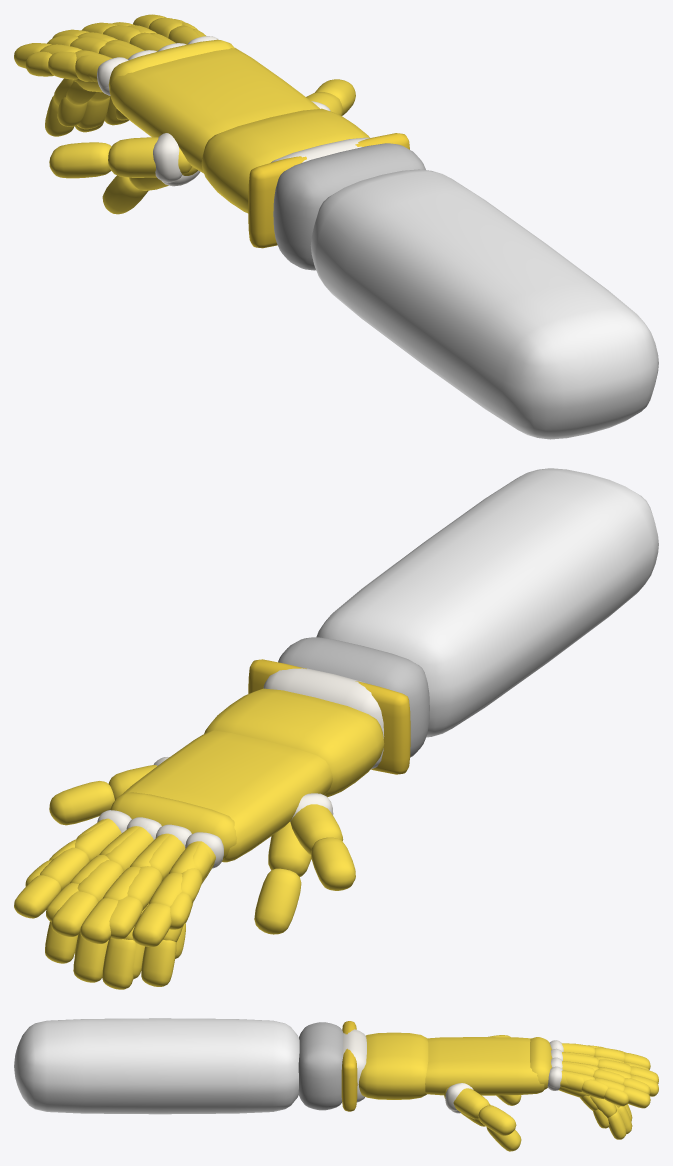
File: hands.glb
3 renders of one model, top to bottom at view 1: azimuth 30°, elevation 25°; view 2: azimuth 150°, elevation 25°; view 3: azimuth 270°, elevation 25°, orthographic. The views are drawn at different scales.
Parts seen in each view (by area): view 1: Hand_L, Hand_L_Glove, HandFlat_R_Thumb, HandFlat_L_Pinky, Hand_R_Thumb, HandFlat_L_Thumb, HandFlat_L_Middle, HandFlat_R_StumpThumb, HandFlat_L_Ring, Hand_R_Index, HandFlat_L_Index, Hand_L_Pinky (+3 smaller); view 2: Hand_L, Hand_L_Glove, Hand_R_Thumb, HandFlat_R_Thumb, HandFlat_L_Index, HandFlat_L_Middle, Hand_L_StumpWrist, HandFlat_L_Thumb, HandFlat_L_Ring, HandFlat_R_Index, HandFlat_R_Middle, HandFlat_L_Pinky (+5 smaller); view 3: Hand_L, Hand_L_Glove, HandFlat_L_Thumb, HandFlat_R_Pinky, HandFlat_R_Middle, HandFlat_R_Index, Hand_L_Index, HandFlat_L_Index, HandFlat_R_Ring, Hand_L_StumpWrist, Hand_L_Thumb, HandFlat_L_Middle (+5 smaller).
Part boxes in pixels (x1=…): Hand_L: x1=273, y1=143, x2=658, y2=439; Hand_L_Glove: x1=108, y1=39, x2=409, y2=248; HandFlat_R_Thumb: x1=49, y1=137, x2=192, y2=178; HandFlat_L_Pinky: x1=25, y1=51, x2=108, y2=81; Hand_R_Thumb: x1=102, y1=167, x2=197, y2=214; HandFlat_L_Thumb: x1=306, y1=79, x2=355, y2=115; HandFlat_L_Middle: x1=82, y1=22, x2=168, y2=51; HandFlat_R_StumpThumb: x1=153, y1=133, x2=182, y2=182; HandFlat_L_Ring: x1=47, y1=35, x2=138, y2=59; Hand_R_Index: x1=45, y1=78, x2=102, y2=136; HandFlat_L_Index: x1=133, y1=14, x2=199, y2=44; Hand_L_Pinky: x1=57, y1=80, x2=96, y2=126; Hand_L: x1=278, y1=468, x2=658, y2=757; Hand_L_Glove: x1=110, y1=659, x2=410, y2=862; Hand_R_Thumb: x1=254, y1=822, x2=311, y2=934; HandFlat_R_Thumb: x1=290, y1=804, x2=355, y2=890; HandFlat_L_Index: x1=14, y1=819, x2=121, y2=918; HandFlat_L_Middle: x1=51, y1=826, x2=153, y2=936; Hand_L_StumpWrist: x1=263, y1=668, x2=384, y2=769; HandFlat_L_Thumb: x1=49, y1=765, x2=156, y2=825; HandFlat_L_Ring: x1=109, y1=834, x2=185, y2=939; HandFlat_R_Index: x1=132, y1=841, x2=215, y2=946; HandFlat_R_Middle: x1=80, y1=833, x2=169, y2=943; HandFlat_L_Pinky: x1=169, y1=841, x2=211, y2=929; Hand_L: x1=14, y1=1018, x2=342, y2=1114; Hand_L_Glove: x1=341, y1=1021, x2=552, y2=1111; HandFlat_L_Thumb: x1=444, y1=1087, x2=516, y2=1135; HandFlat_R_Pinky: x1=561, y1=1071, x2=628, y2=1106; HandFlat_R_Middle: x1=562, y1=1053, x2=658, y2=1083; HandFlat_R_Index: x1=562, y1=1044, x2=650, y2=1069; Hand_L_Index: x1=558, y1=1086, x2=626, y2=1139; HandFlat_L_Index: x1=560, y1=1070, x2=650, y2=1108; HandFlat_R_Ring: x1=562, y1=1062, x2=650, y2=1094; Hand_L_StumpWrist: x1=343, y1=1029, x2=366, y2=1102; Hand_L_Thumb: x1=461, y1=1104, x2=521, y2=1151; HandFlat_L_Middle: x1=562, y1=1061, x2=658, y2=1096.
Size of the model in its own units: 0.189 by 0.0983 by 0.5721.
